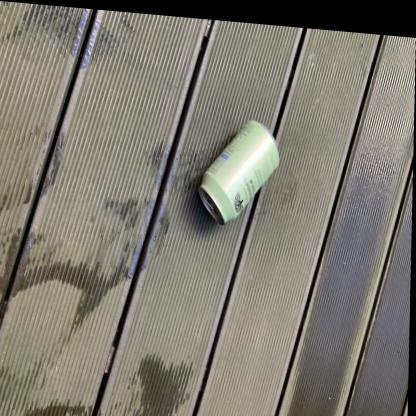trash: (199, 120, 278, 223)
